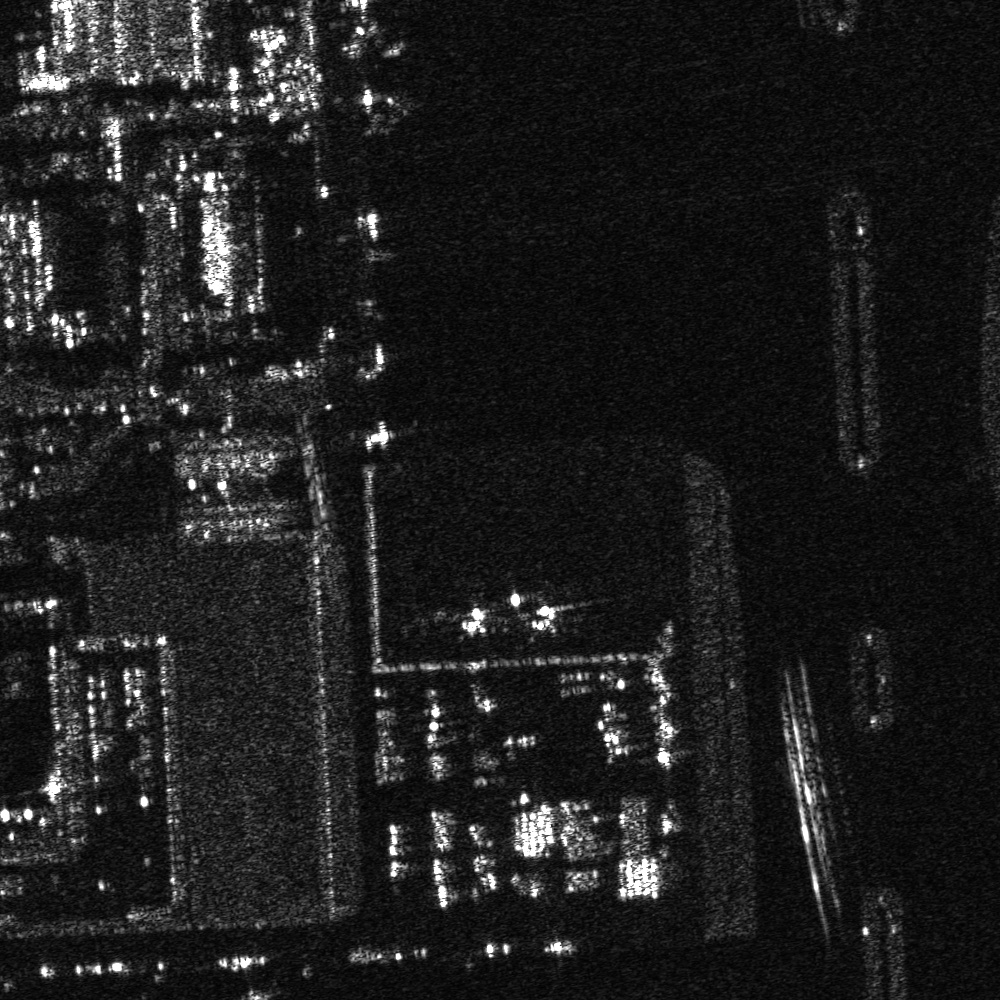ARJ21: (434, 594, 512, 641)
other: (516, 593, 589, 638)
